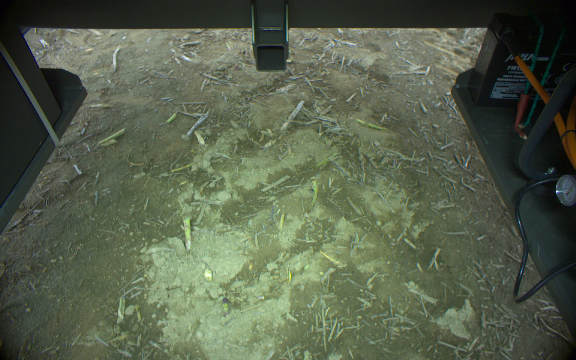aspa: (353, 116, 388, 132), (181, 214, 195, 252), (307, 178, 318, 213)
